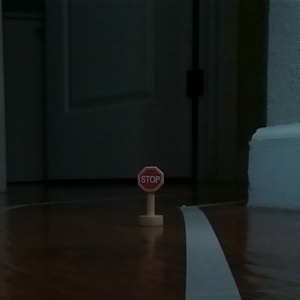stop sign: (134, 163, 167, 228)
